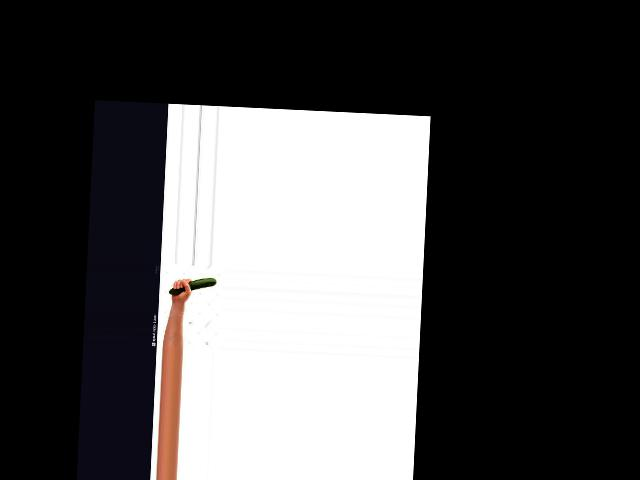cucumber: (168, 275, 216, 296)
